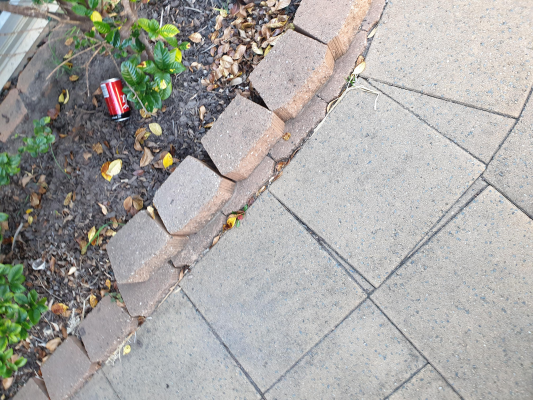Plastic Bottle: (100, 78, 131, 122)
